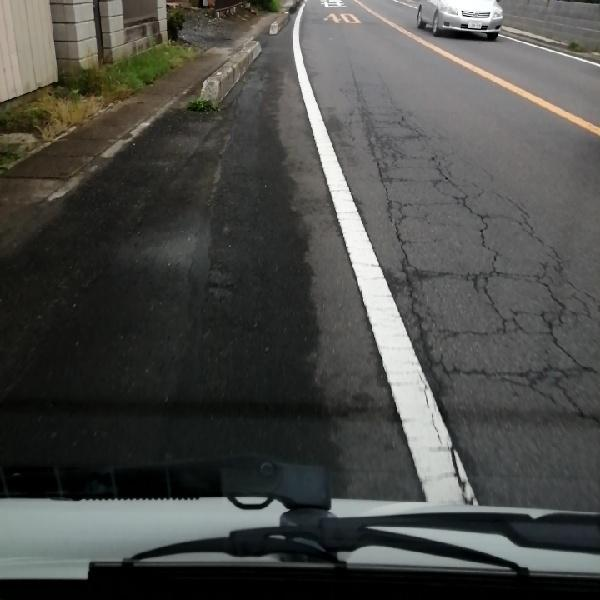D20: (337, 77, 599, 454)
